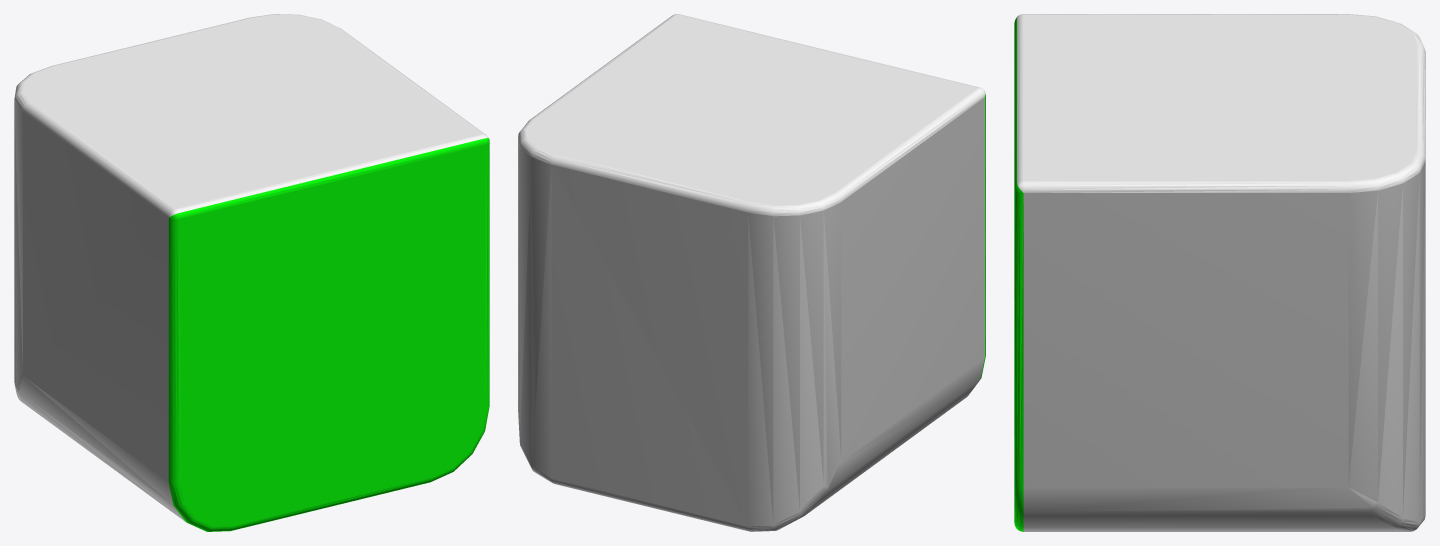
3 renders of one model, left to right at view 1: azimuth 30°, elevation 25°; view 2: azimuth 150°, elevation 25°; view 3: azimuth 270°, elevation 25°, orthographic. The views are drawn at different scales.
Parts seen in each view (by area): view 1: edge_UF; view 2: edge_UF; view 3: edge_UF.
Part boxes in pixels (x1,y1,x2,y2): edge_UF: (14,14,489,531); edge_UF: (518,14,985,531); edge_UF: (1014,14,1425,531).
Size of the model in its own units: 0.2003 by 0.2003 by 0.2003.
1 material, 1 textured.
